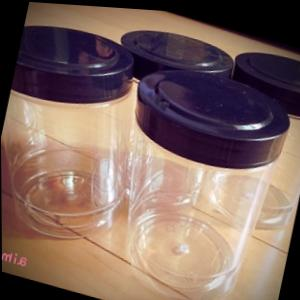plastic: (0, 0, 299, 299), (3, 27, 133, 237)
